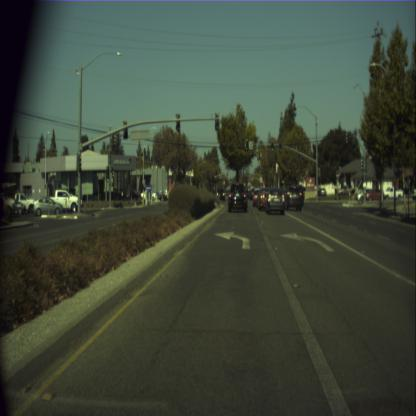Green: (245, 138, 248, 150), (271, 141, 274, 152), (278, 144, 282, 152)
off: (312, 144, 316, 159)
